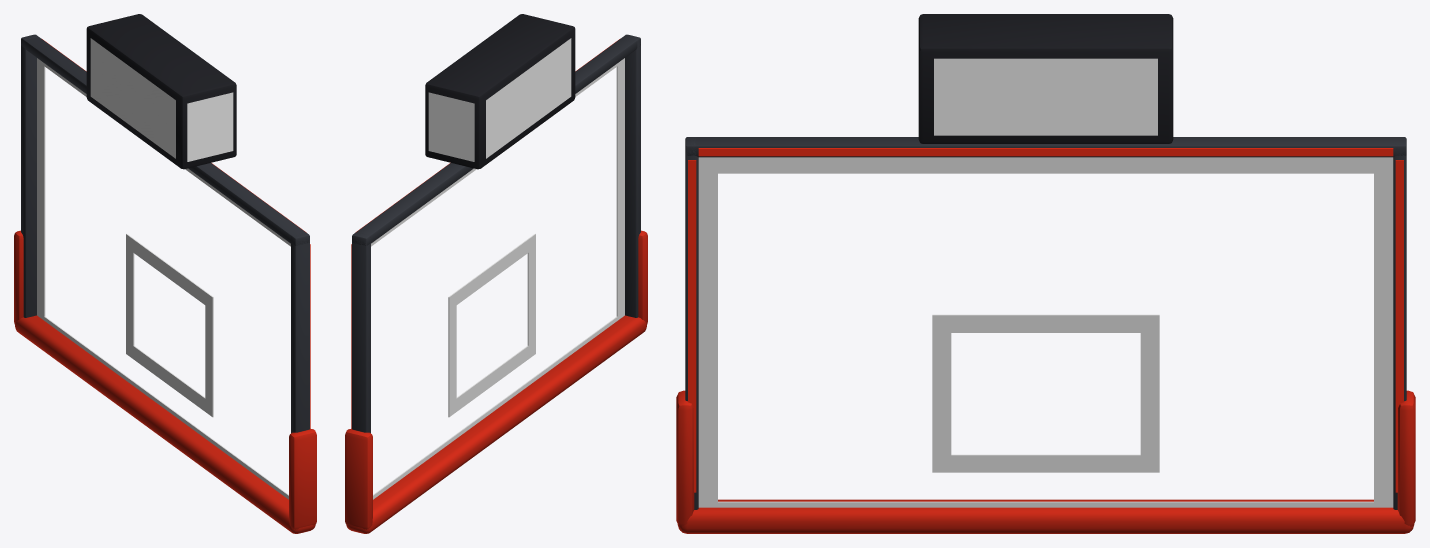
Rendered from SM_BackboardFrame.fbx.
3 renders of one model, left to right at view 1: azimuth 30°, elevation 25°; view 2: azimuth 150°, elevation 25°; view 3: azimuth 270°, elevation 25°, orthographic. The views are drawn at different scales.
Parts seen in each view (by area): view 1: SM_BackboardFrame; view 2: SM_BackboardFrame; view 3: SM_BackboardFrame.
Boxes of the visible parts, x1,y1,x2,y2 form: SM_BackboardFrame: [14, 14, 316, 533]; SM_BackboardFrame: [345, 14, 647, 533]; SM_BackboardFrame: [676, 14, 1415, 533].
Bounding box in the file's own units: 22.2 × 142 × 192.
